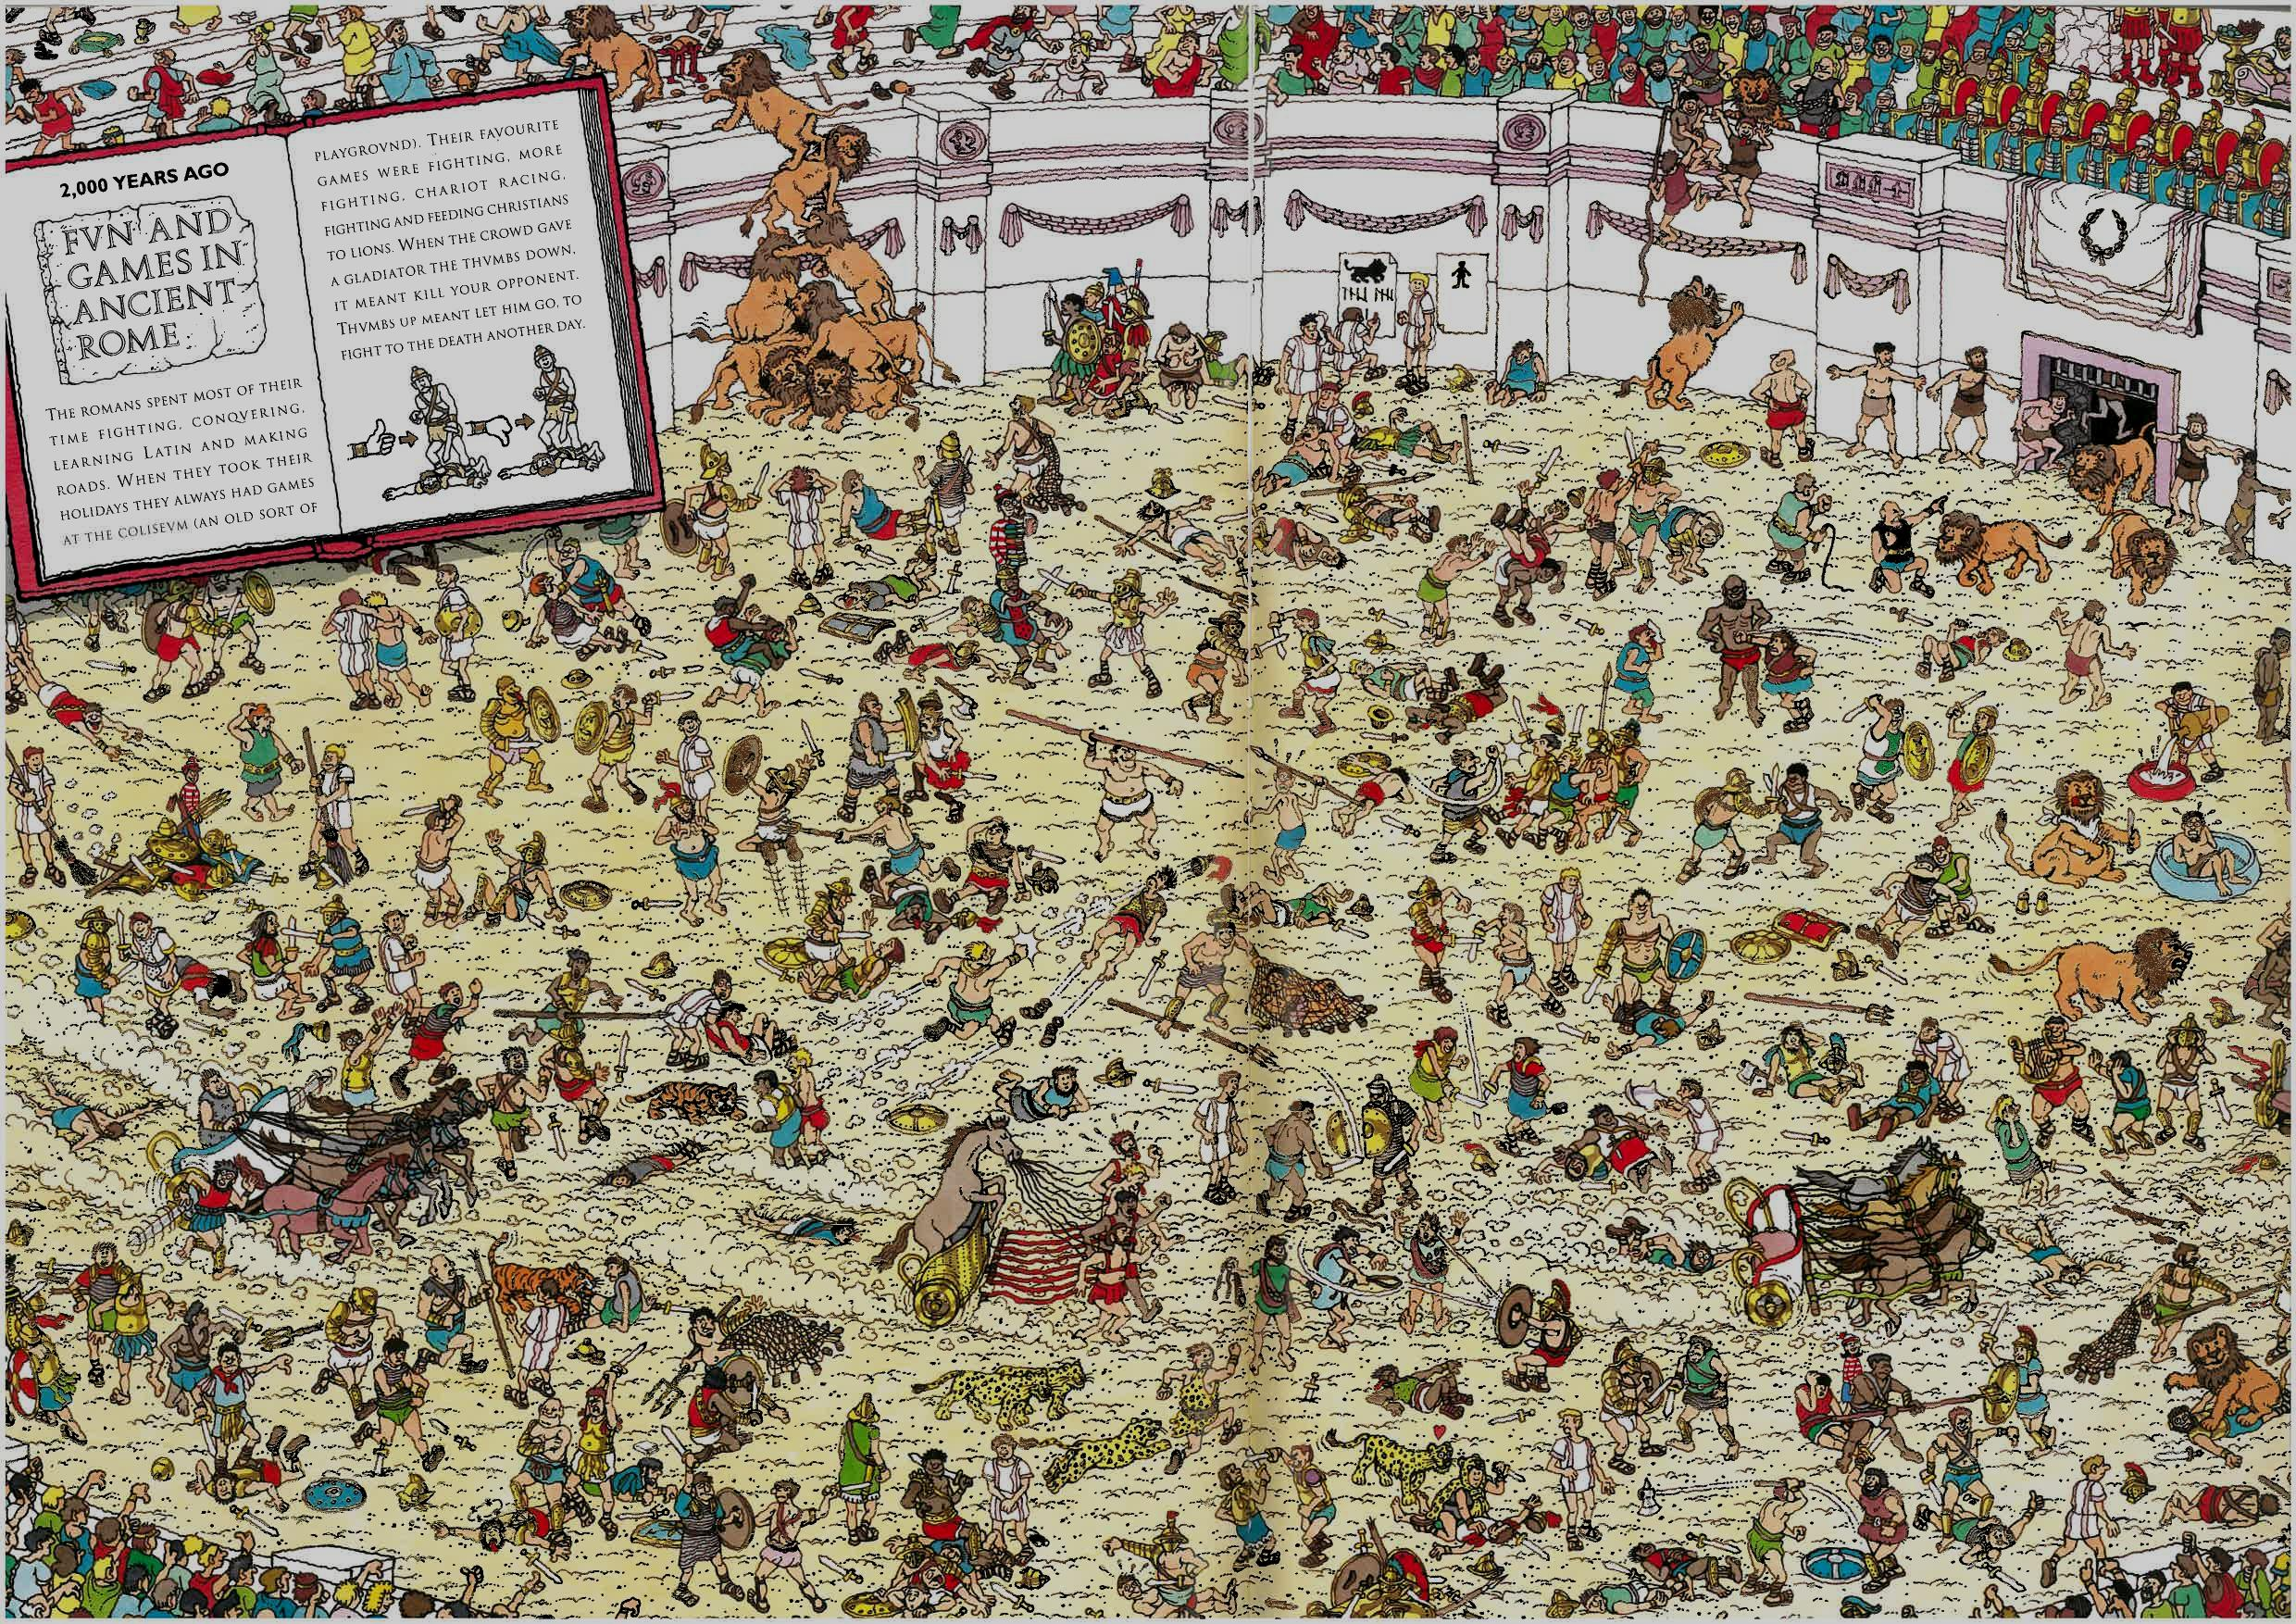waldos: (989, 480, 1038, 585)
